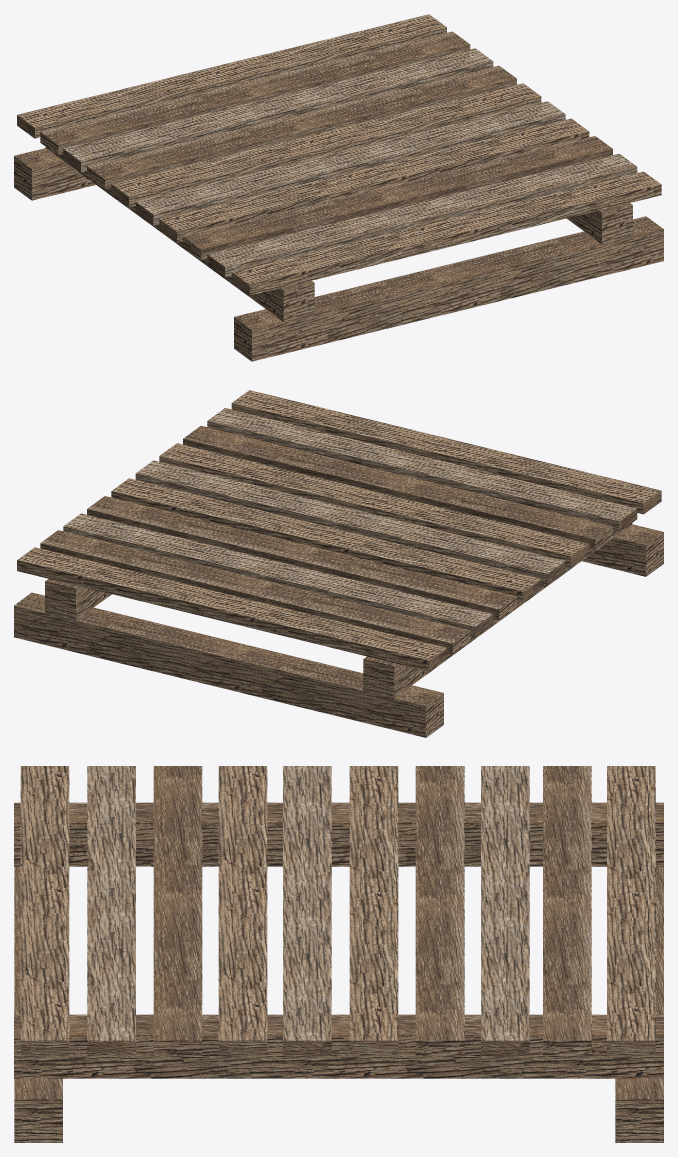
Rendered from muelle (1).fbx.
The picture shows the model from 3 angles, top to bottom: view 1: azimuth 30°, elevation 25°; view 2: azimuth 150°, elevation 25°; view 3: azimuth 270°, elevation 25°; orthographic projection. The views are drawn at different scales.
Parts seen in each view (by area): view 1: Viga.001; view 2: Viga.001; view 3: Viga.001.
Part boxes in pixels (x1,y1,x2,y2): Viga.001: (14,14,663,361); Viga.001: (14,390,663,737); Viga.001: (14,766,663,1142).
Bounding box in the file's own units: 400 × 69.48 × 400.
Materials: 1 (1 with a texture image).
